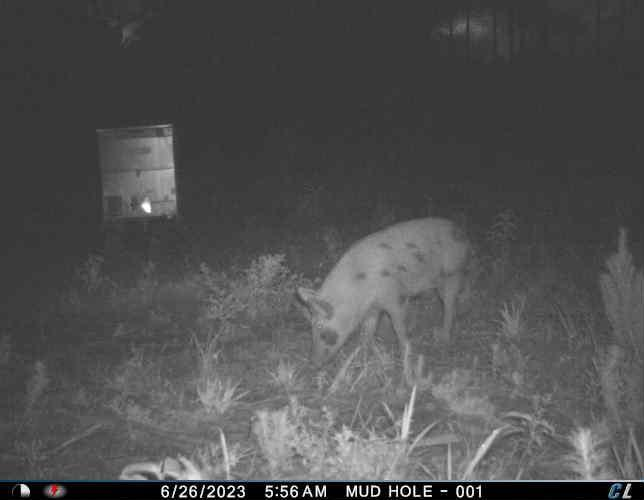Hog: (292, 214, 475, 371)
